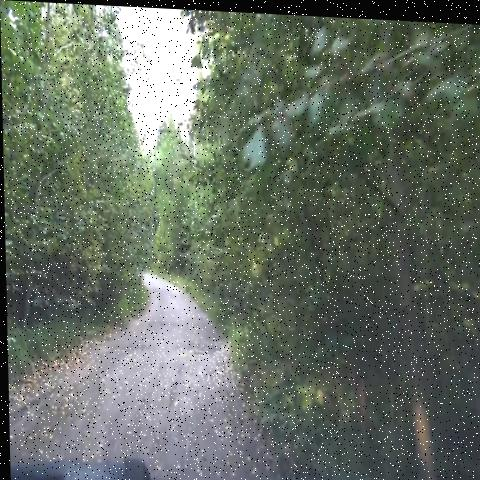pothole: (163, 333, 223, 365), (108, 331, 152, 363), (145, 317, 185, 334)
